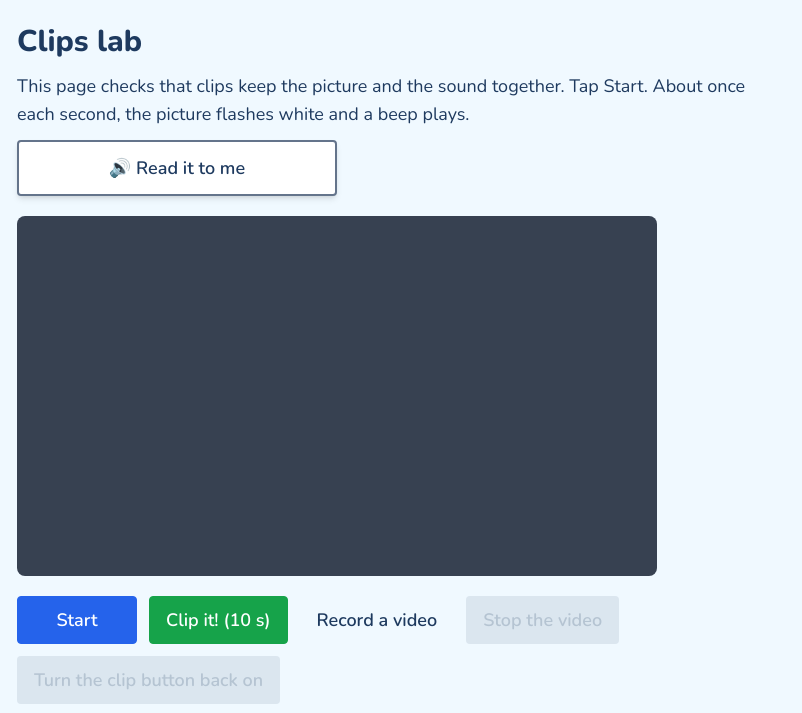
it: ClipsLab › shows the reason and a next step when the clip cannot be made
Click the button with test id "lab-clip".
click(218, 620)  # box x1=149 y1=596 x2=288 y2=644
(page scrolled)
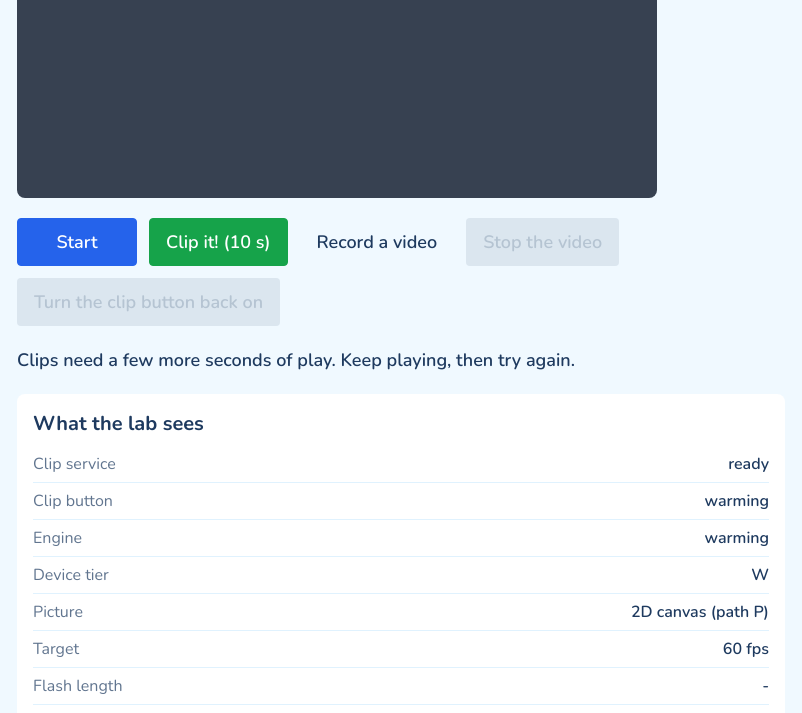
Result: the text with test id "lab-message" reads "Clips need a few more seconds of play. Keep playing, then try again." at x1=17 y1=348 x2=575 y2=372
